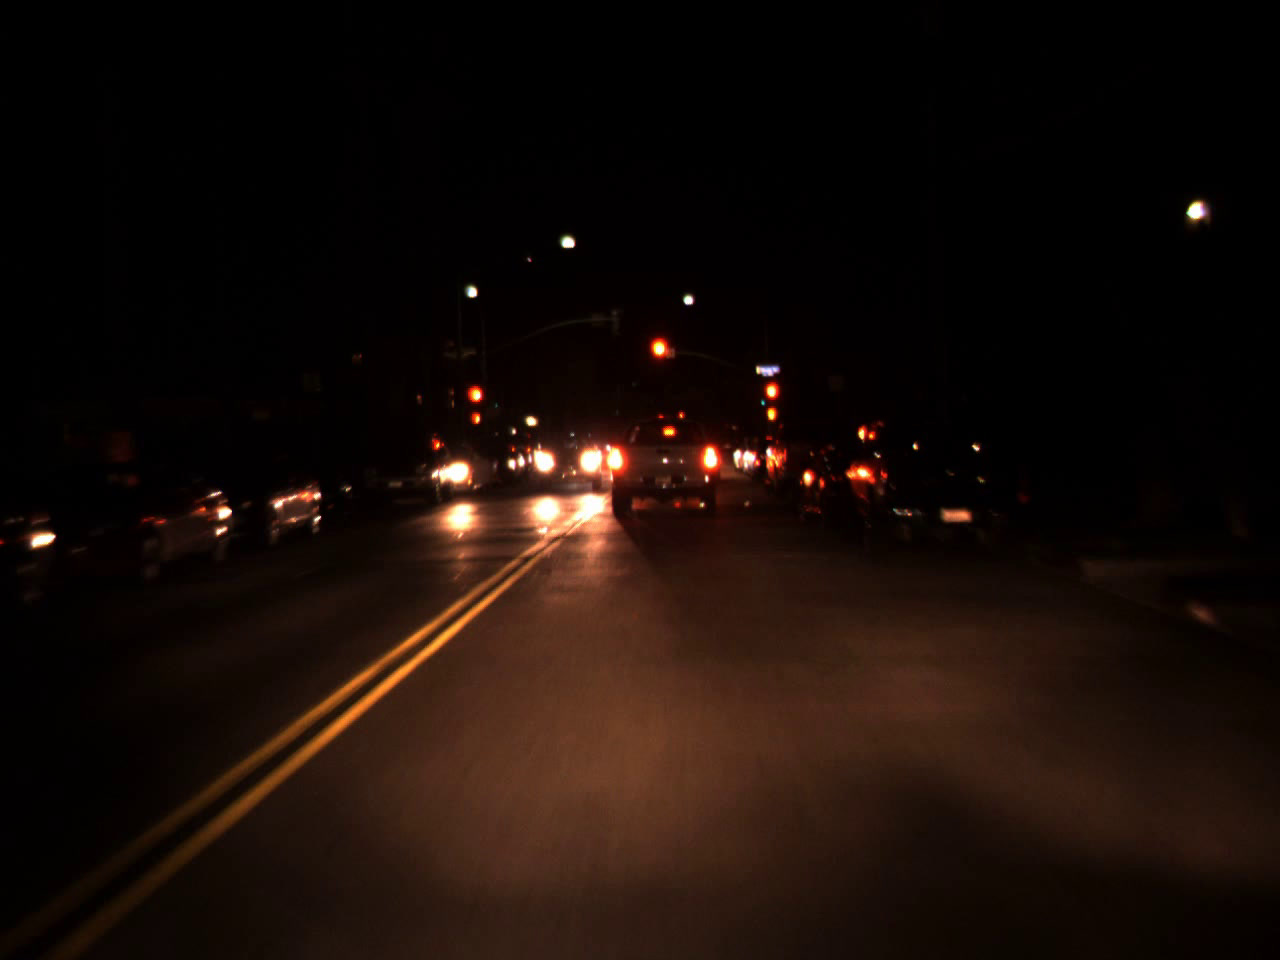stop: (646, 334, 673, 385), (464, 382, 485, 425), (763, 379, 781, 419)
